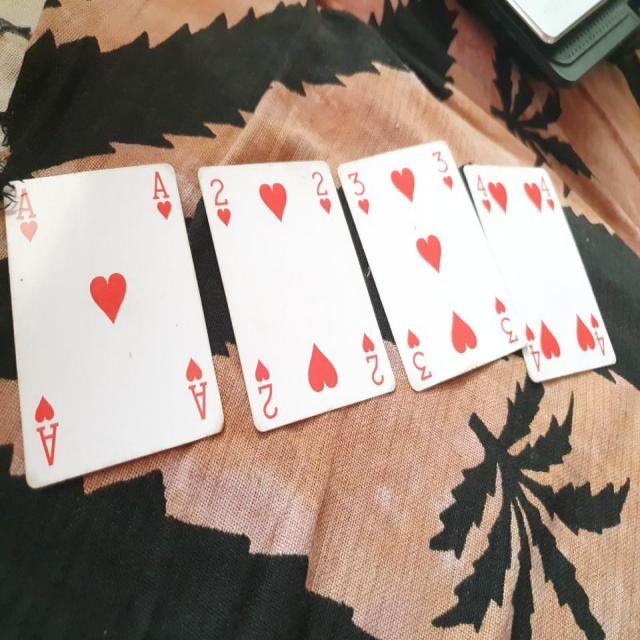2 Hearts: (192, 146, 402, 445)
3 Hearts: (335, 130, 528, 397)
4 Hearts: (461, 149, 624, 393)
A Hearts: (3, 155, 230, 506)
